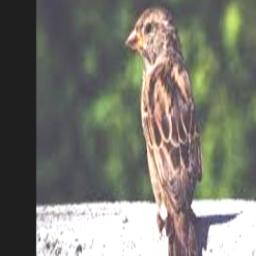Sparrow: (126, 4, 203, 256)
